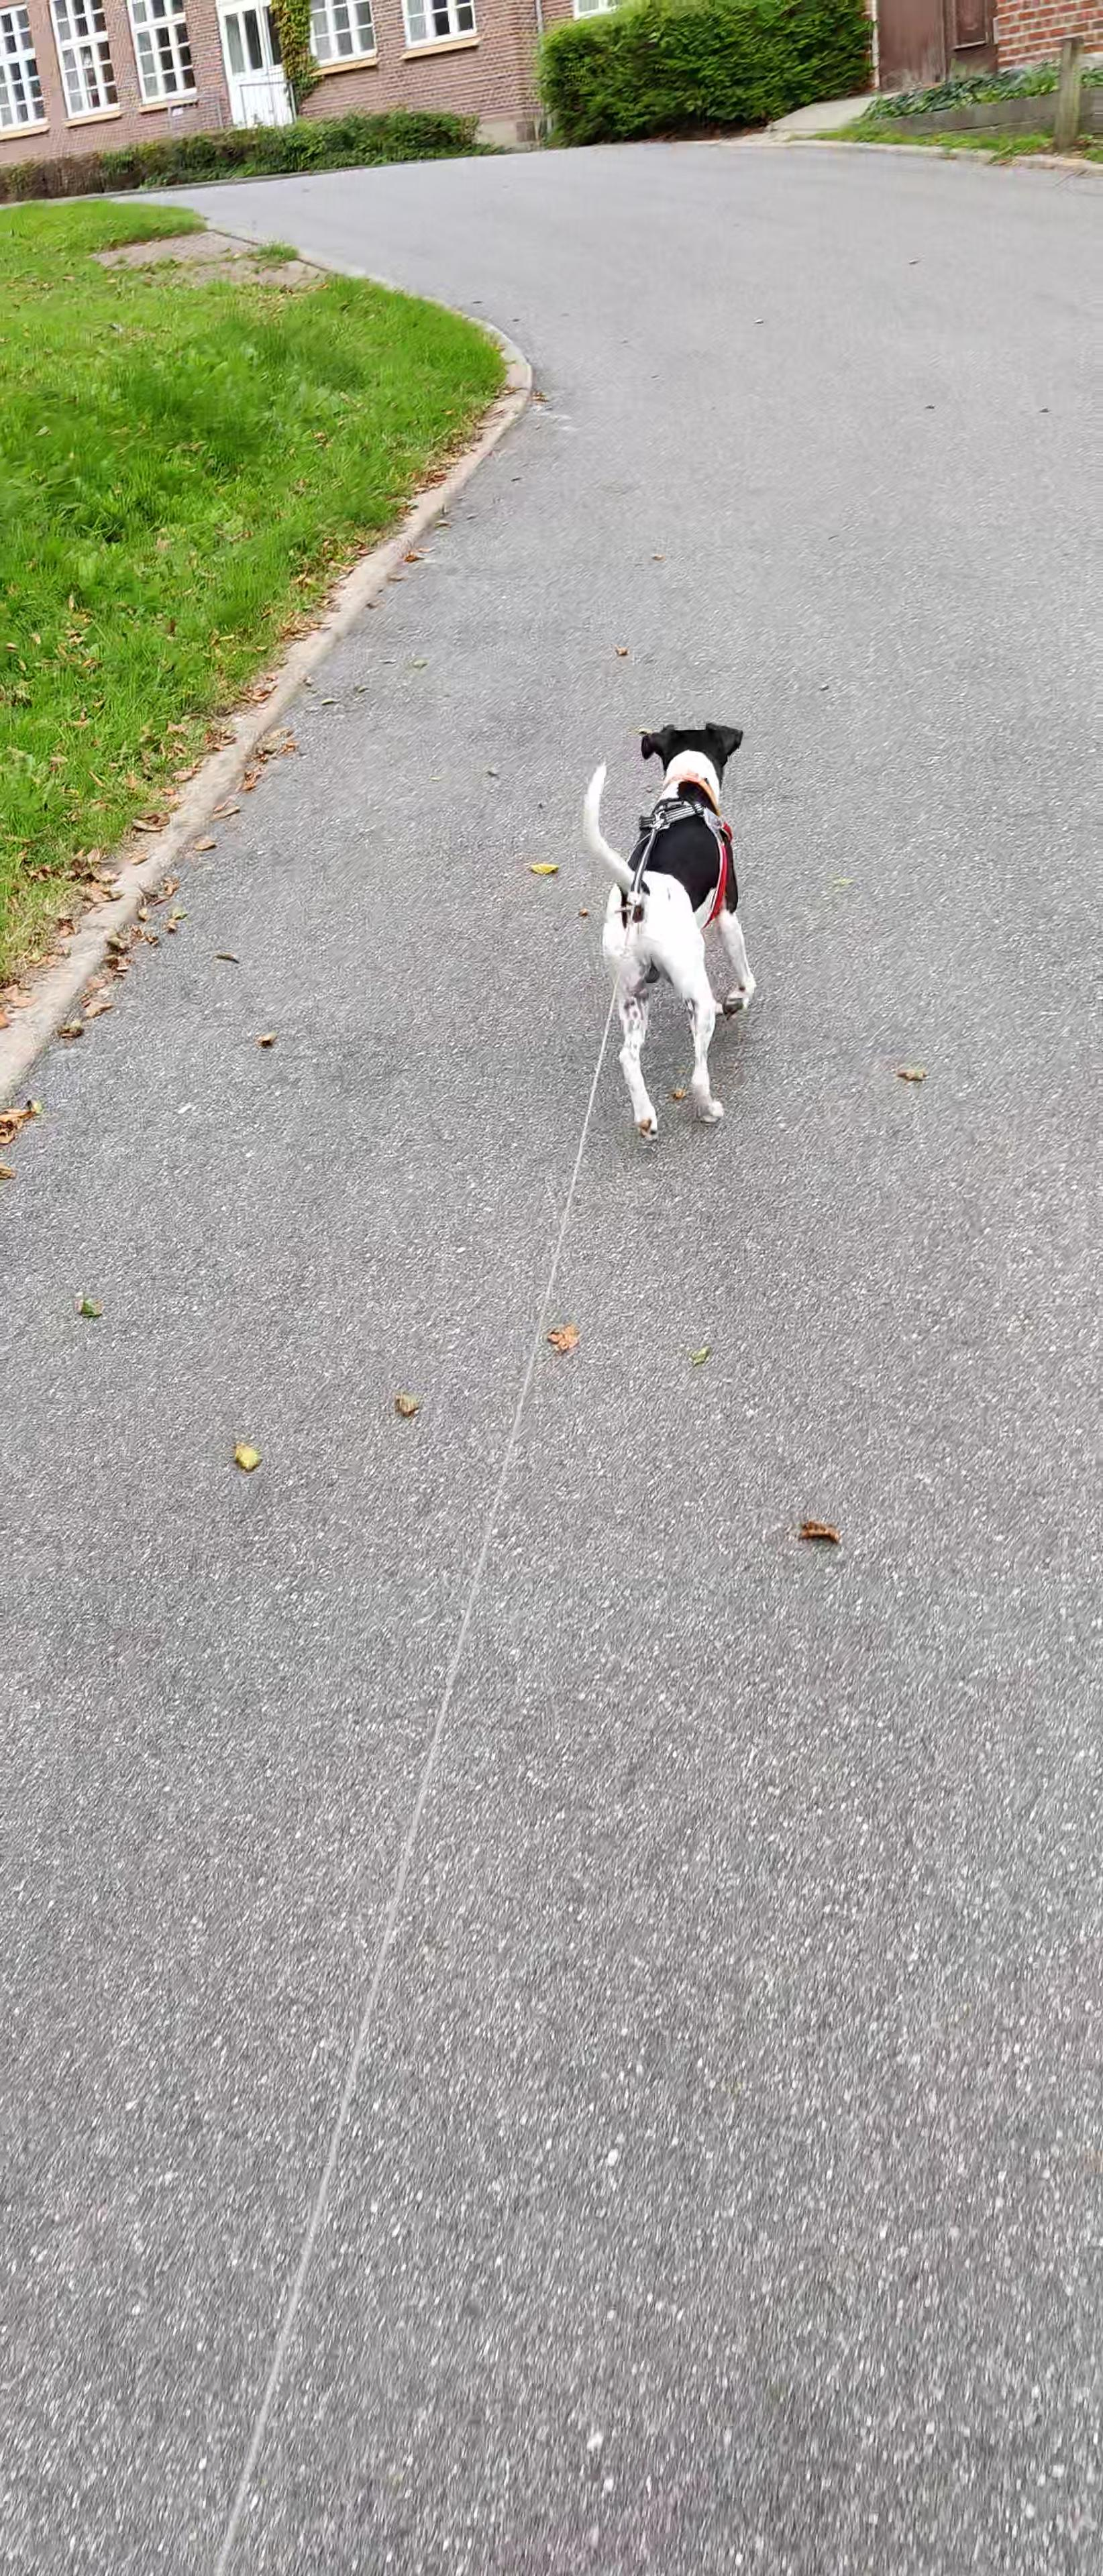Dog: (561, 688, 794, 1176)
